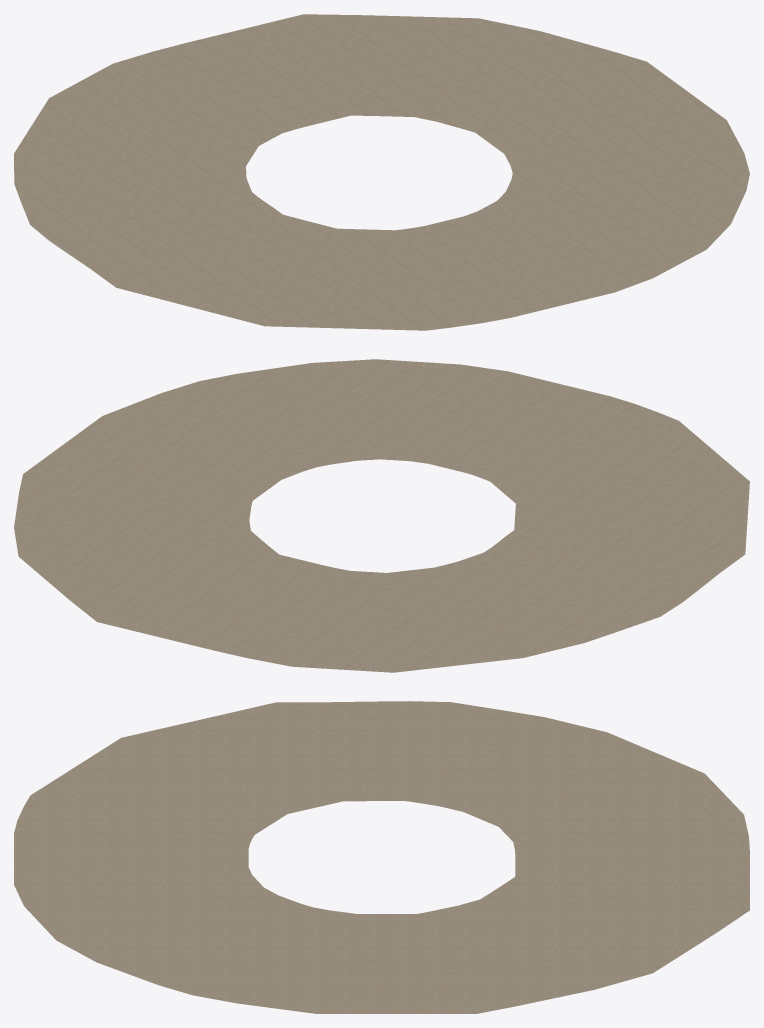
File: SM_ENV_TCHEXA_ArenaGround_Ab.fbx
3 views of the same model, one above another, from view 1: azimuth 30°, elevation 25°; view 2: azimuth 150°, elevation 25°; view 3: azimuth 270°, elevation 25° (orthographic). The views are drawn at different scales.
Parts seen in each view (by area): view 1: SM_ENV_TCHEXA_ArenaGround_Ab.mo; view 2: SM_ENV_TCHEXA_ArenaGround_Ab.mo; view 3: SM_ENV_TCHEXA_ArenaGround_Ab.mo.
Boxes of the visible parts, box(x1,y1,x2,y2) form: SM_ENV_TCHEXA_ArenaGround_Ab.mo: box(14, 14, 749, 330); SM_ENV_TCHEXA_ArenaGround_Ab.mo: box(14, 359, 749, 672); SM_ENV_TCHEXA_ArenaGround_Ab.mo: box(14, 701, 749, 1013).
Size of the model in its own units: 48664 by 0.00789 by 48409.
